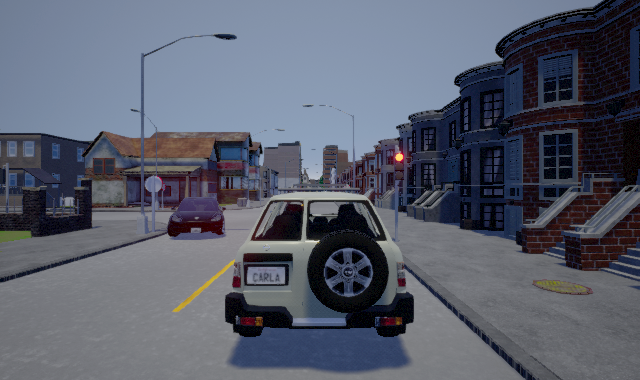traffic_light: (394, 147, 404, 186)
vehicle: (225, 184, 414, 337), (167, 197, 226, 237)
